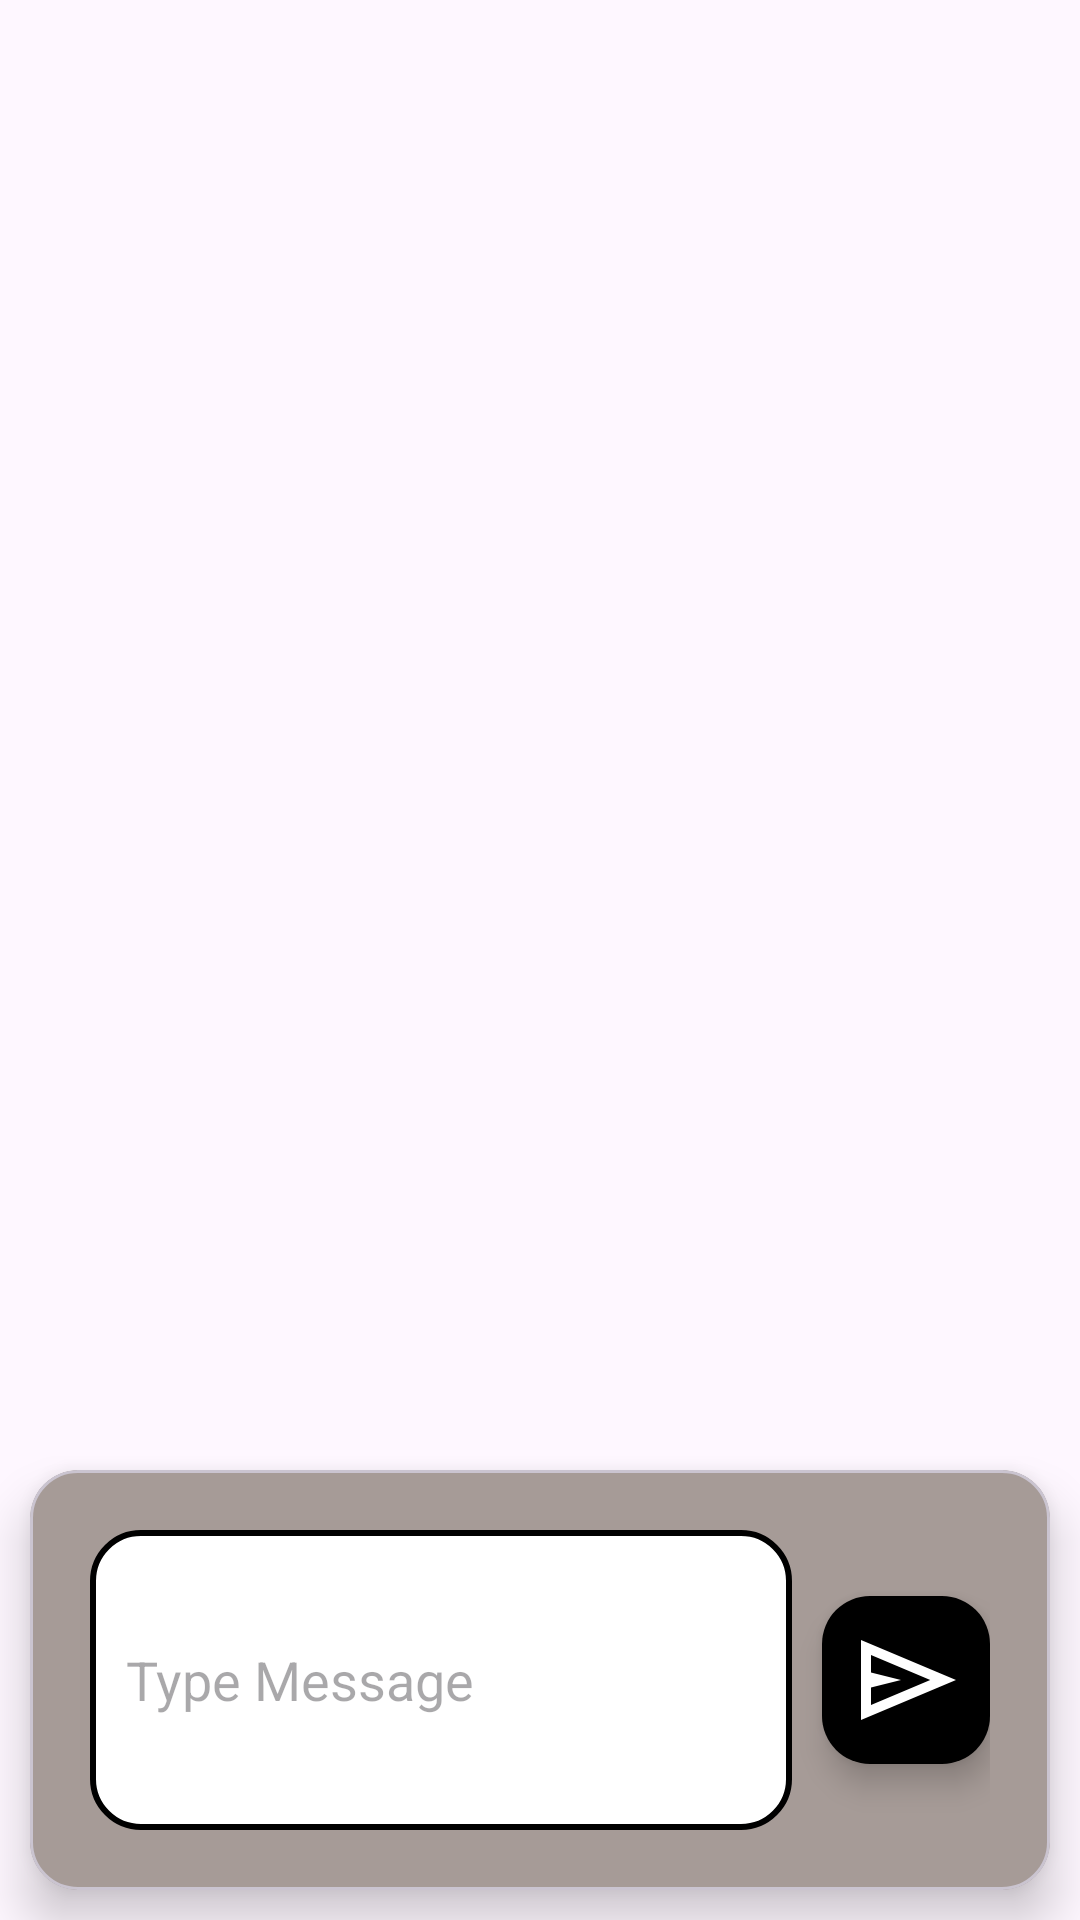

Icon bounding boxes for this 1080x1920 phone screenshot, format [x1,y1,x2,y2]:
send: [822,1596,990,1764]
